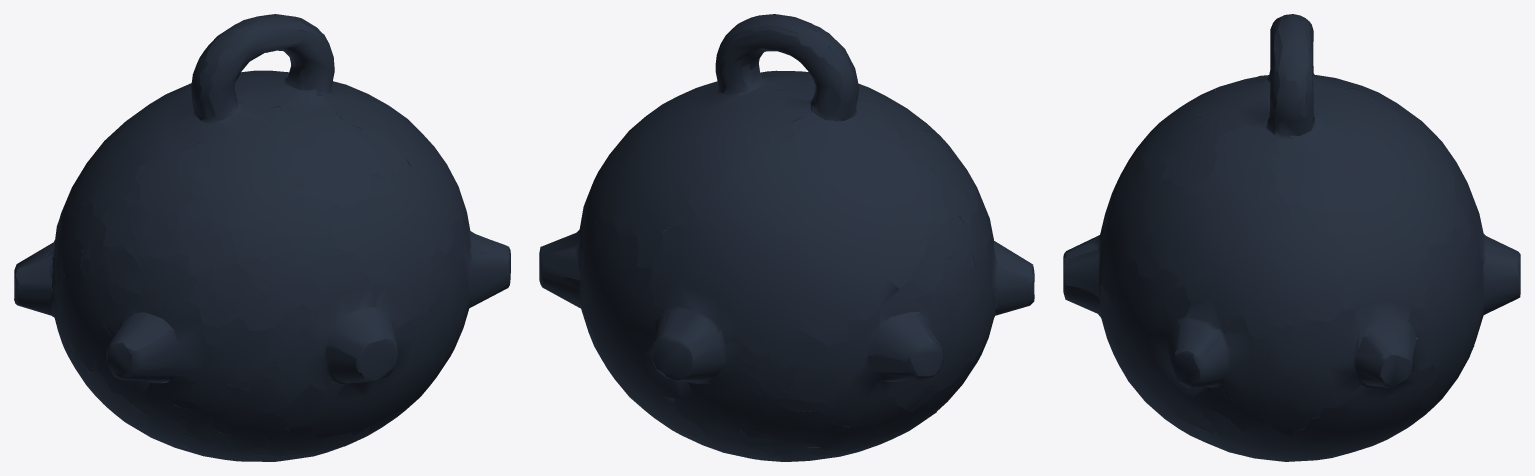
File: PROP_C1_PENDULUM_game.glb
3 renders of one model, left to right at view 1: azimuth 30°, elevation 25°; view 2: azimuth 150°, elevation 25°; view 3: azimuth 270°, elevation 25°, orthographic.
Visible parts, largest first — view 1: PROP_C1_PENDULUM; view 2: PROP_C1_PENDULUM; view 3: PROP_C1_PENDULUM.
Boxes of the visible parts, x1,y1,x2,y2 form: PROP_C1_PENDULUM: (14,14,510,461); PROP_C1_PENDULUM: (539,14,1034,461); PROP_C1_PENDULUM: (1063,14,1520,461).
Size of the model in its own units: 1.8 by 1.8 by 1.8.
1 material, 1 textured.
